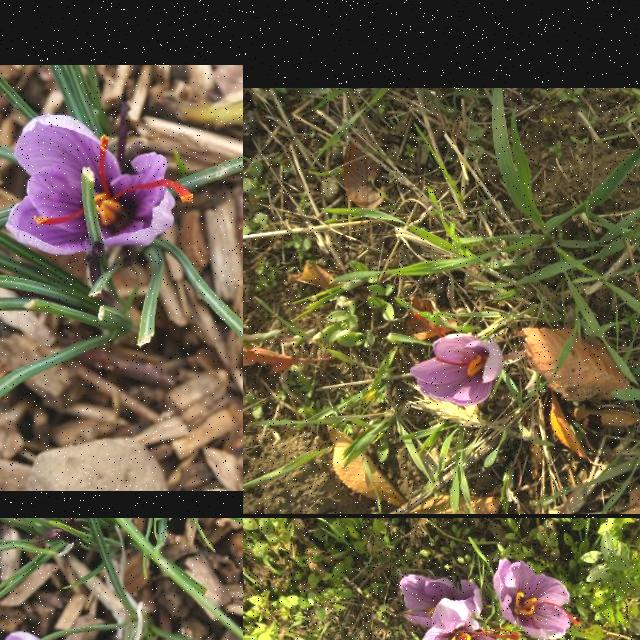flower: (7, 116, 195, 254), (409, 314, 508, 406), (493, 558, 579, 640)
overlap: (400, 575, 524, 640)
